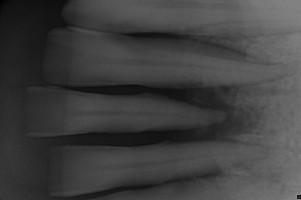Dental Caries: (164, 84, 264, 144)
